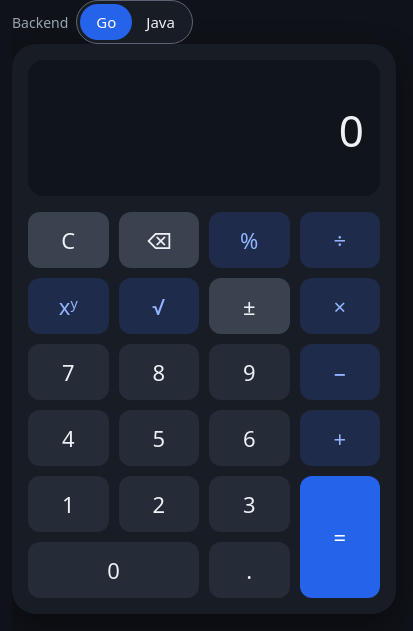
Test case: CalculatorPanel backend routing › retries at most once
The width and height of the screenshot is (413, 631).
Click the button "7" at (68, 372), box [28,344,108,400]
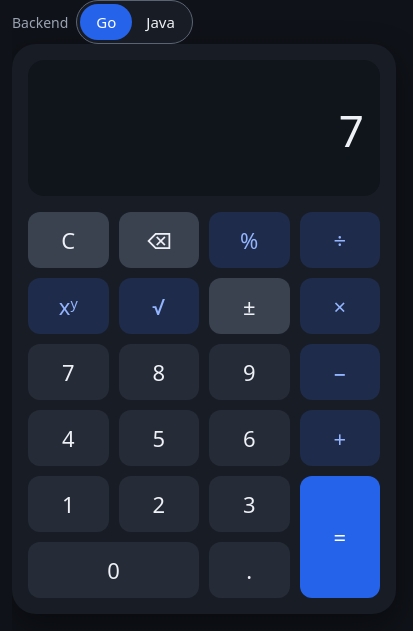
Click the button named "subtract" at (340, 372), box [300,344,380,400]
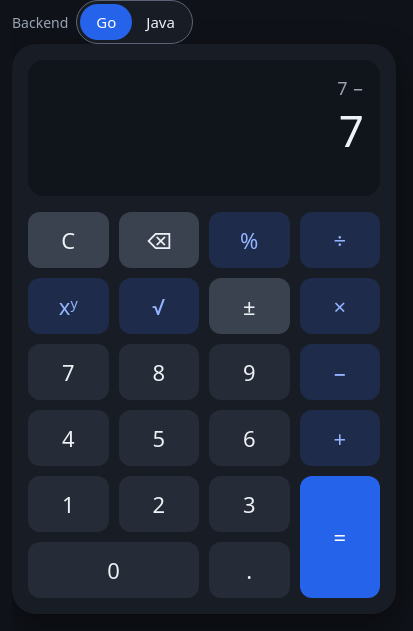
Click the button "9" at (249, 372), box [209,344,290,400]
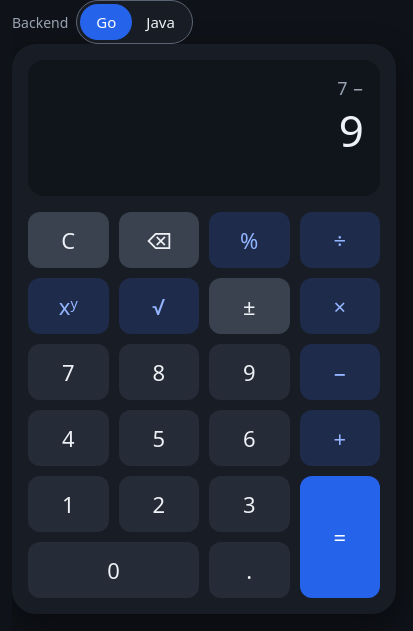
Click the button named "equals" at (340, 537), box [300,476,380,598]
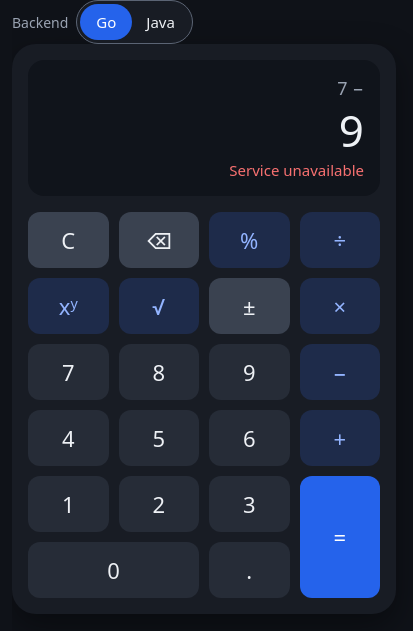
Now the text "Service unavailable" is shown, box [229,160,364,180]
